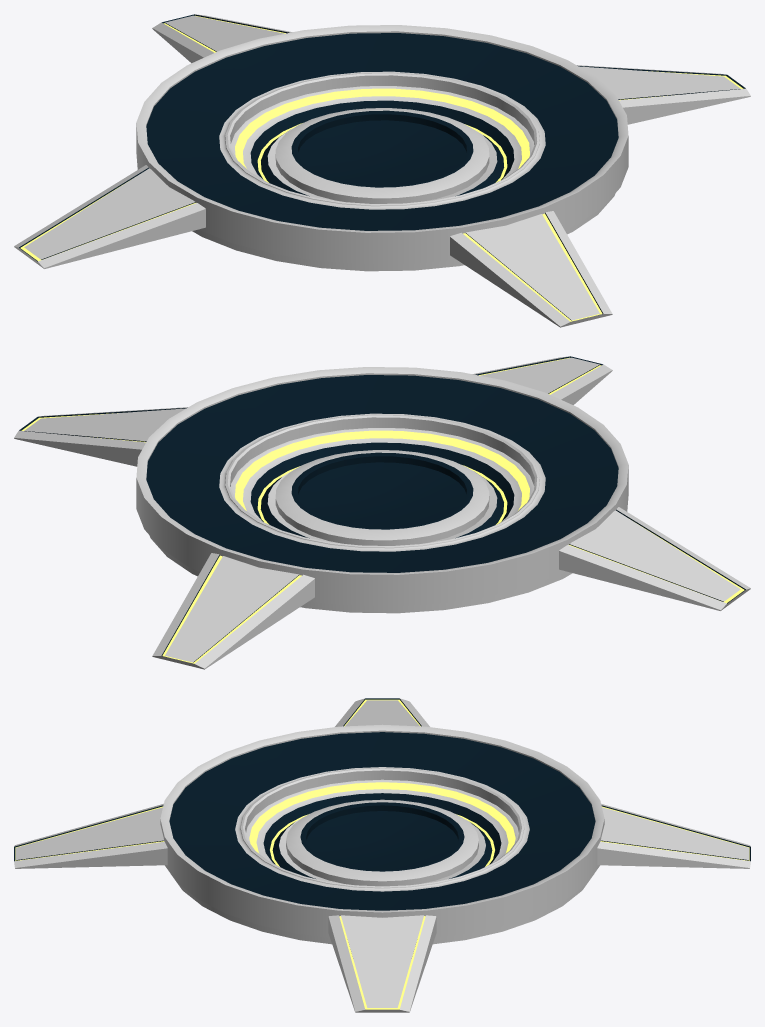
The model's file is jumppad.fbx.
3 views of the same model, one above another, from view 1: azimuth 30°, elevation 25°; view 2: azimuth 150°, elevation 25°; view 3: azimuth 270°, elevation 25° (orthographic). The views are drawn at different scales.
Visible parts, largest first — view 1: jumpPad; view 2: jumpPad; view 3: jumpPad.
Boxes of the visible parts, x1,y1,x2,y2 form: jumpPad: (14, 14, 750, 327); jumpPad: (14, 356, 750, 669); jumpPad: (14, 698, 750, 1012).
Bounding box in the file's own units: 332 × 19.29 × 332.
